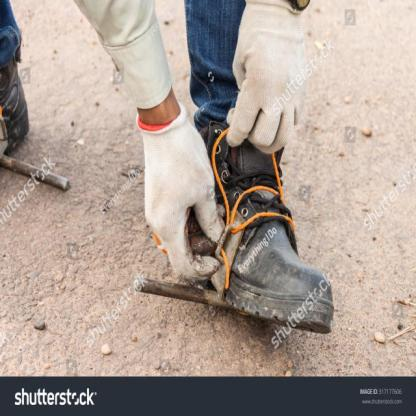bota: (194, 122, 339, 336)
luva: (133, 120, 216, 276), (235, 1, 313, 150)
